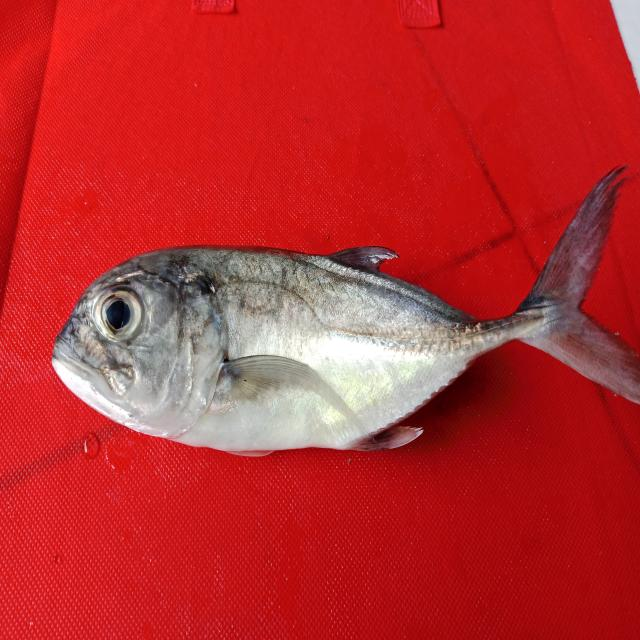ikan: (35, 158, 625, 461)
